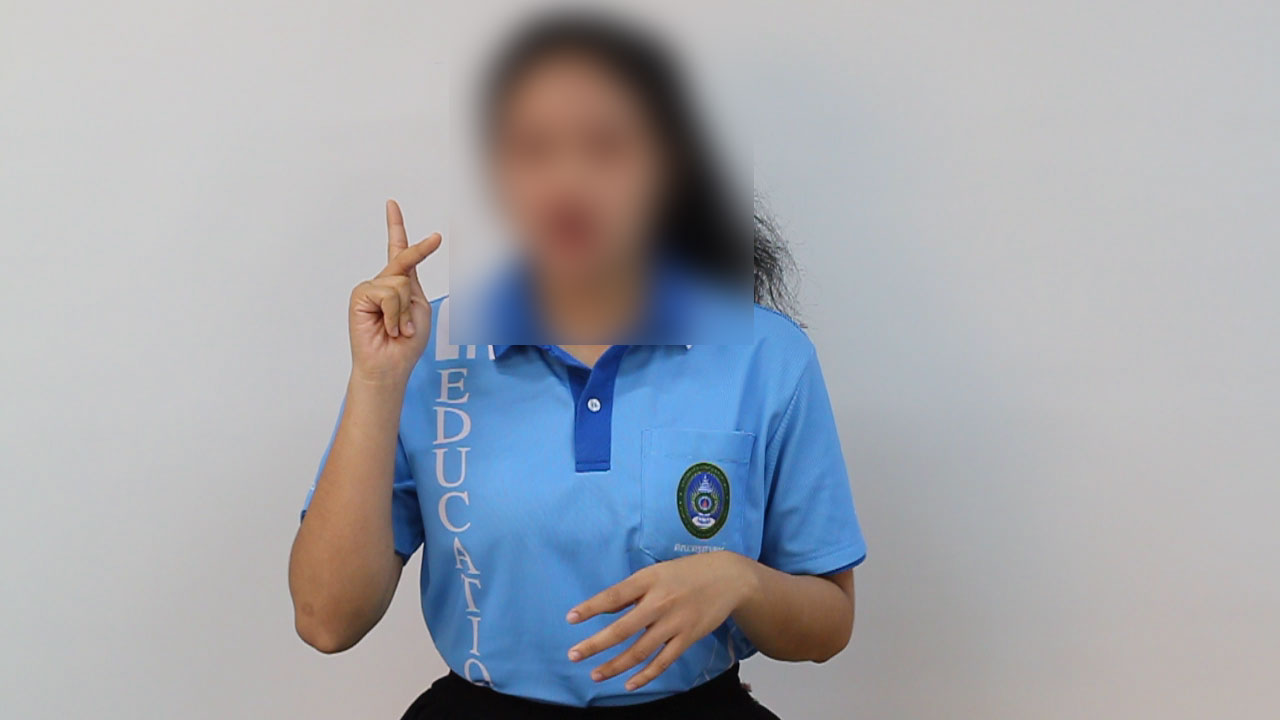ko: (299, 174, 465, 415)
